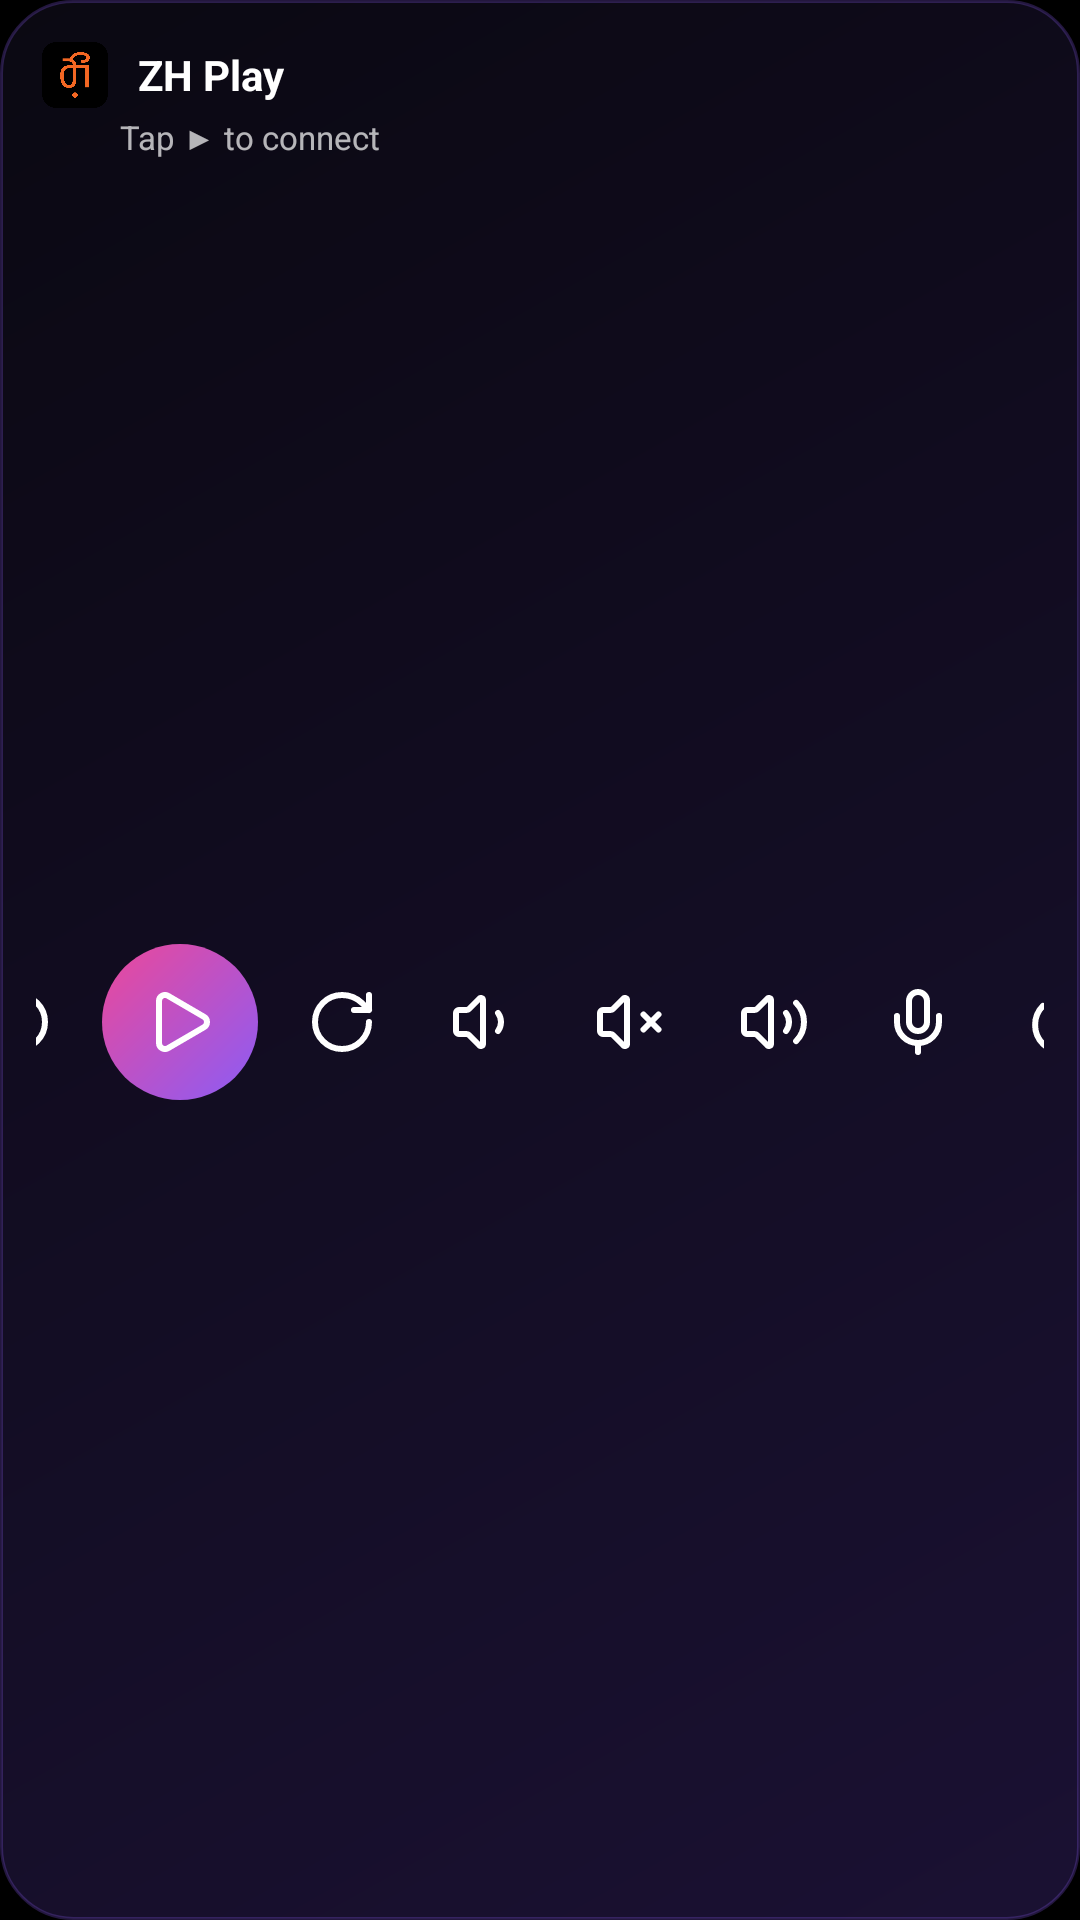

Screen size 1080px×1920px. Icon name, then its center in pixels as point (x, y):
play: point (180, 1022)
rotate cw: point (342, 1022)
Voice: point (918, 1022)
volume: point (478, 1022), point (629, 1022), point (774, 1022)
